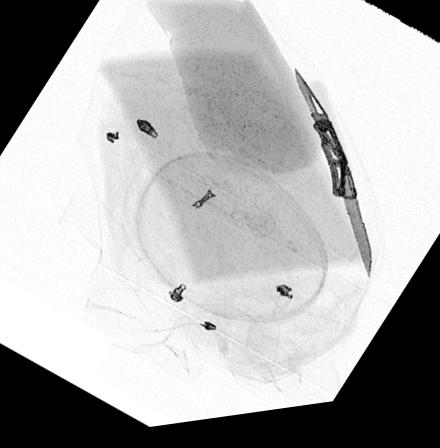Knife: (293, 75, 357, 211), (337, 180, 373, 291)
